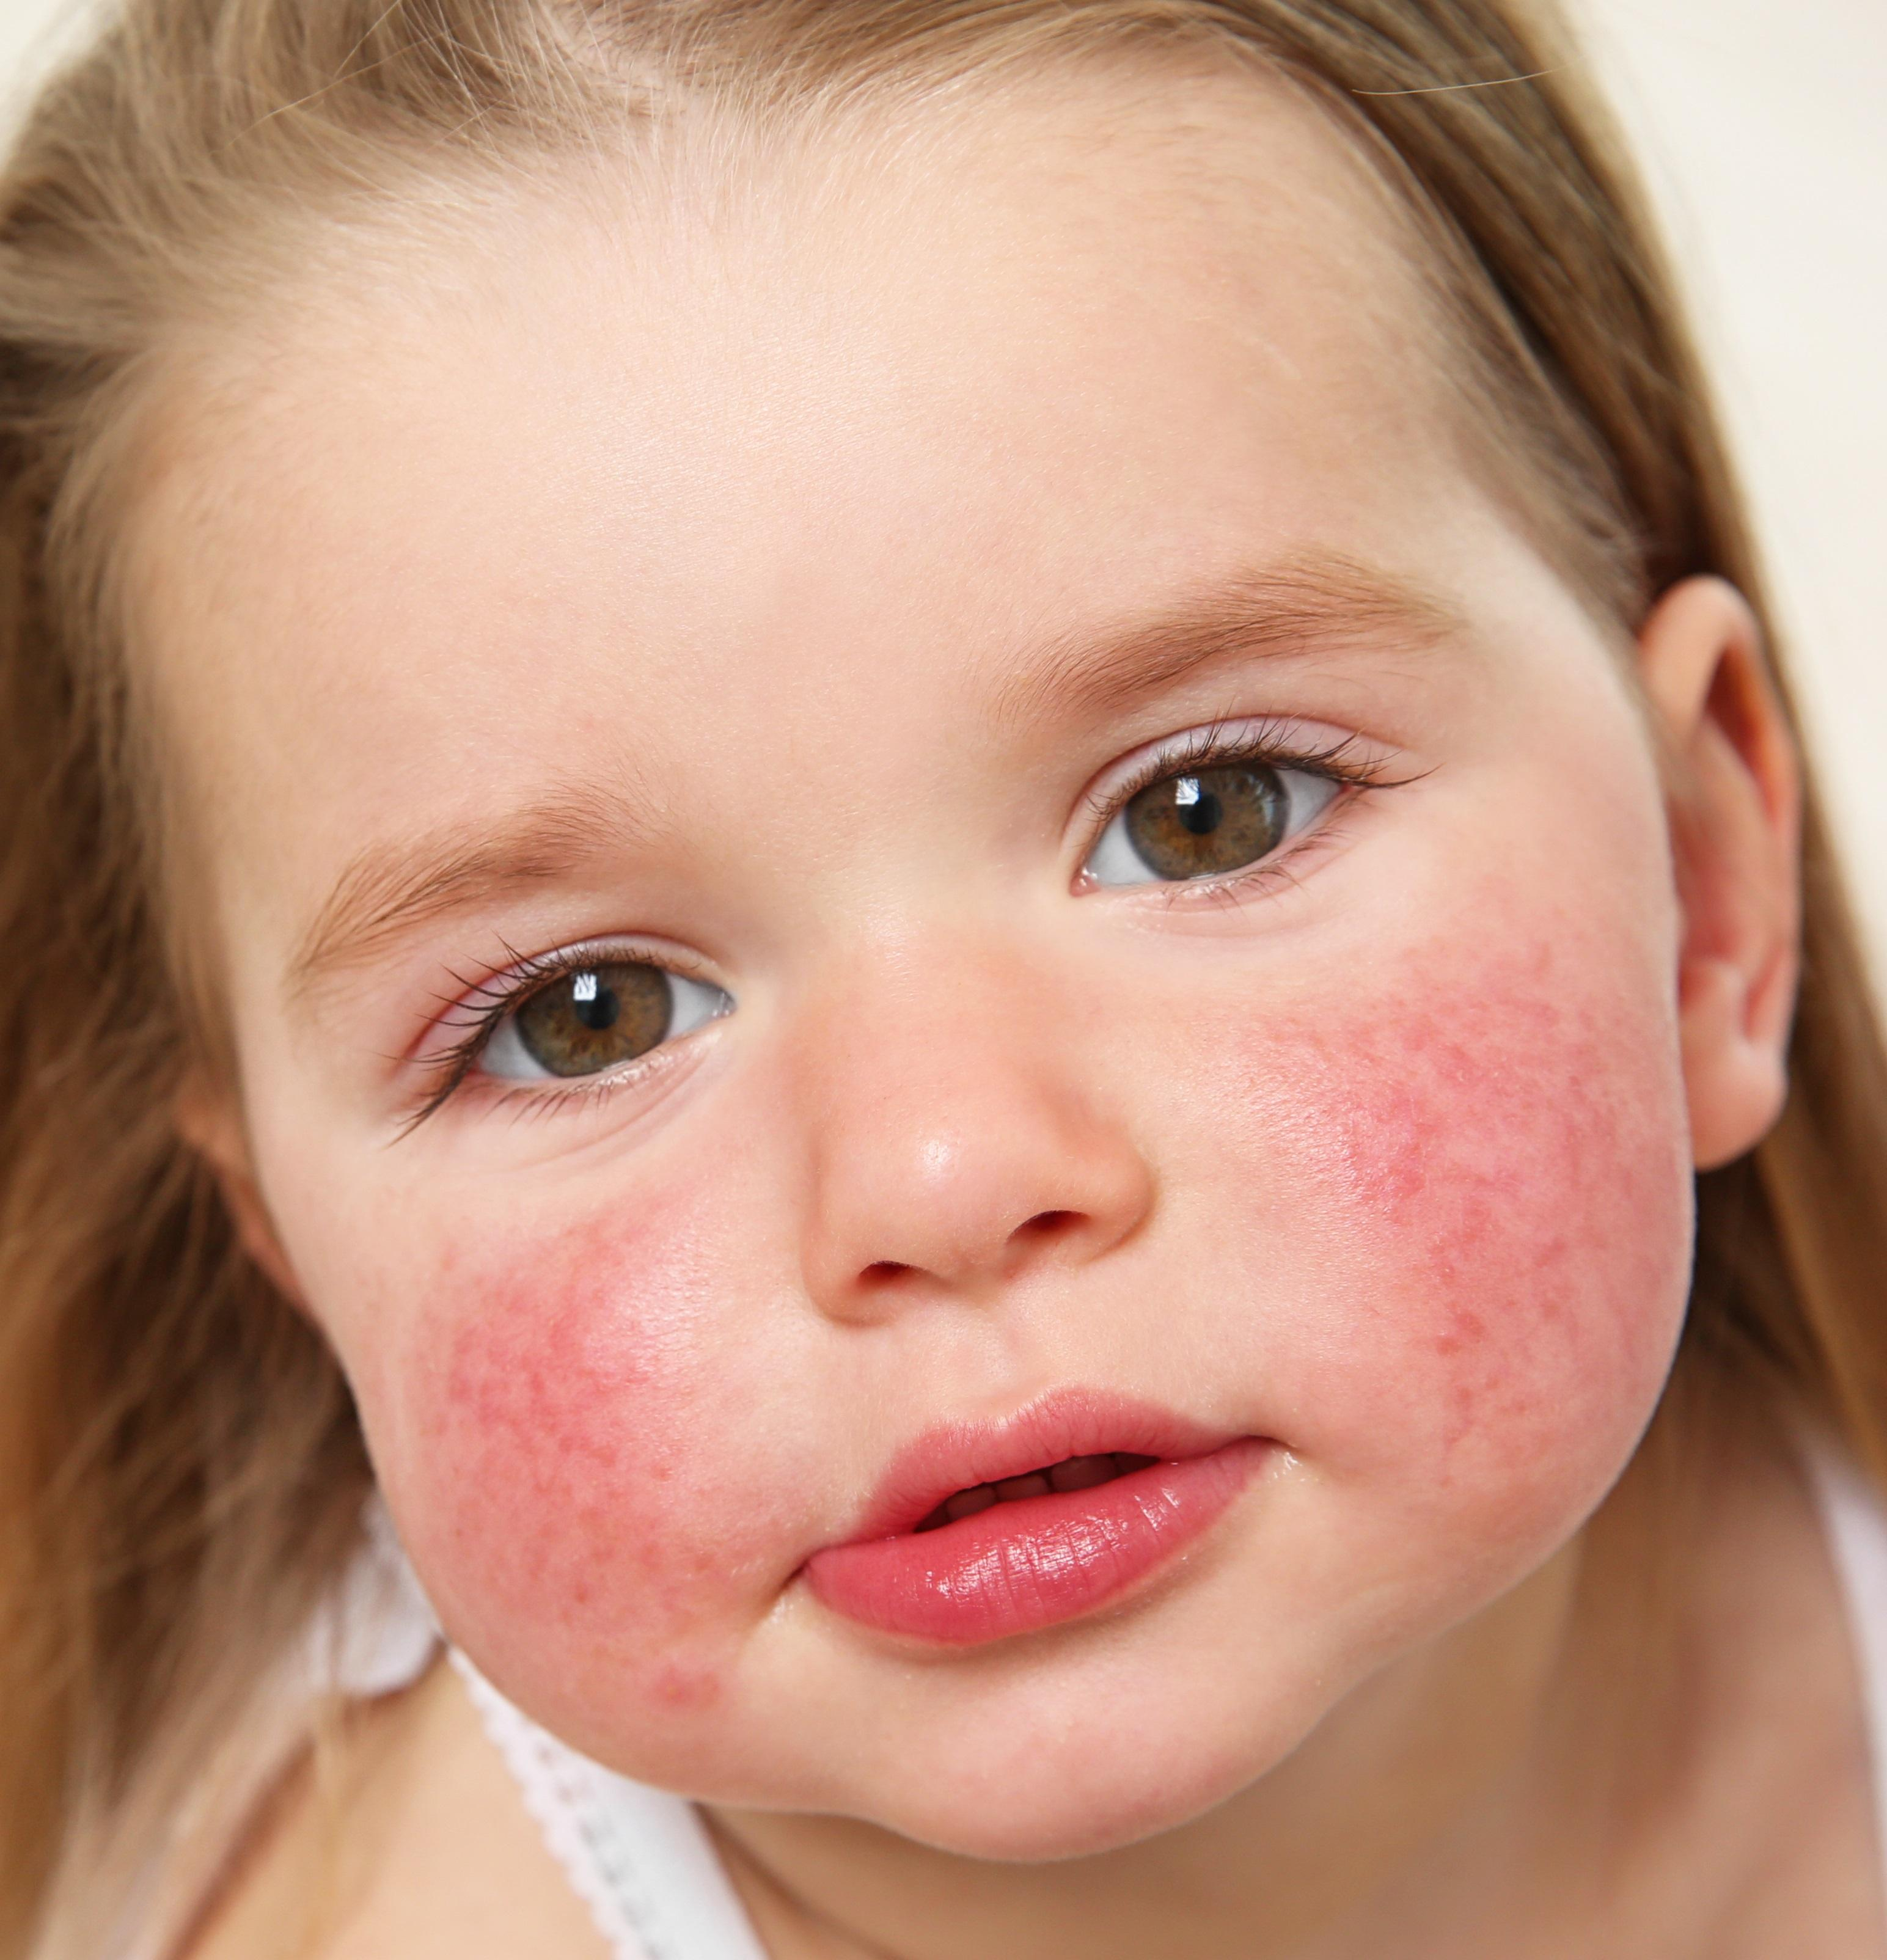Skin-Redness: (1218, 963, 1698, 1454), (376, 1185, 770, 1696)
